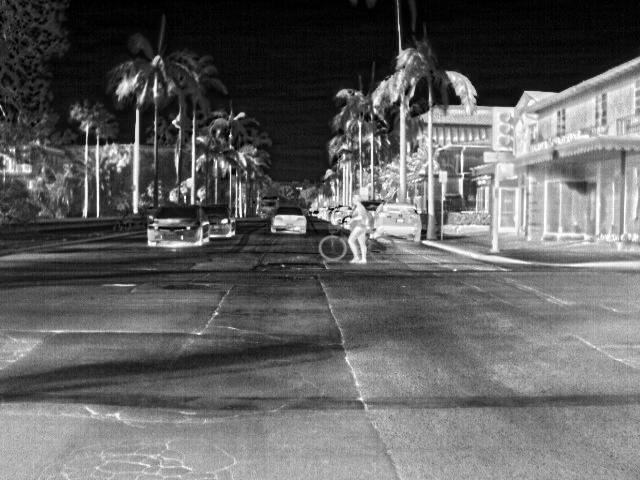car: (146, 204, 208, 250), (379, 204, 423, 242), (202, 204, 237, 238), (269, 206, 306, 236), (257, 196, 281, 221), (330, 205, 348, 225), (365, 200, 378, 214), (320, 209, 332, 220), (310, 208, 319, 219)
person: (349, 194, 368, 264)
